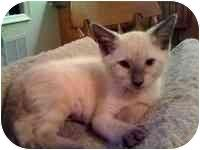siamese: (91, 11, 181, 99)
